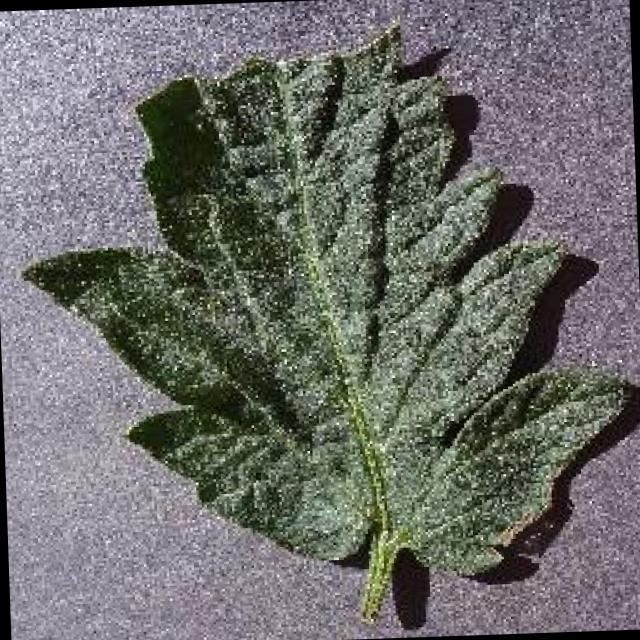Tomato_Healthy: (17, 16, 638, 578)
